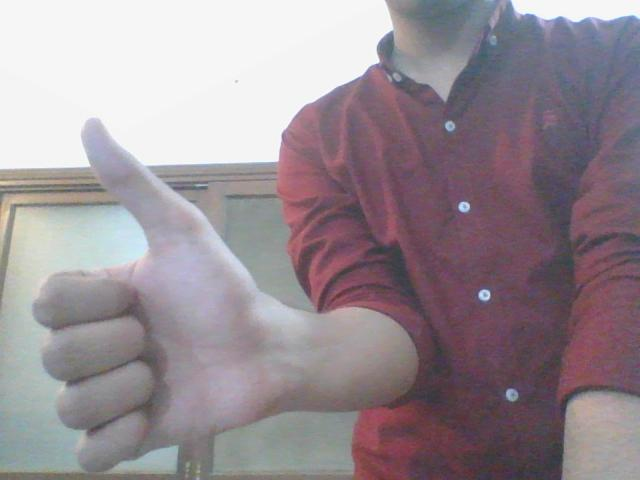thumbs-up: (33, 113, 267, 473)
